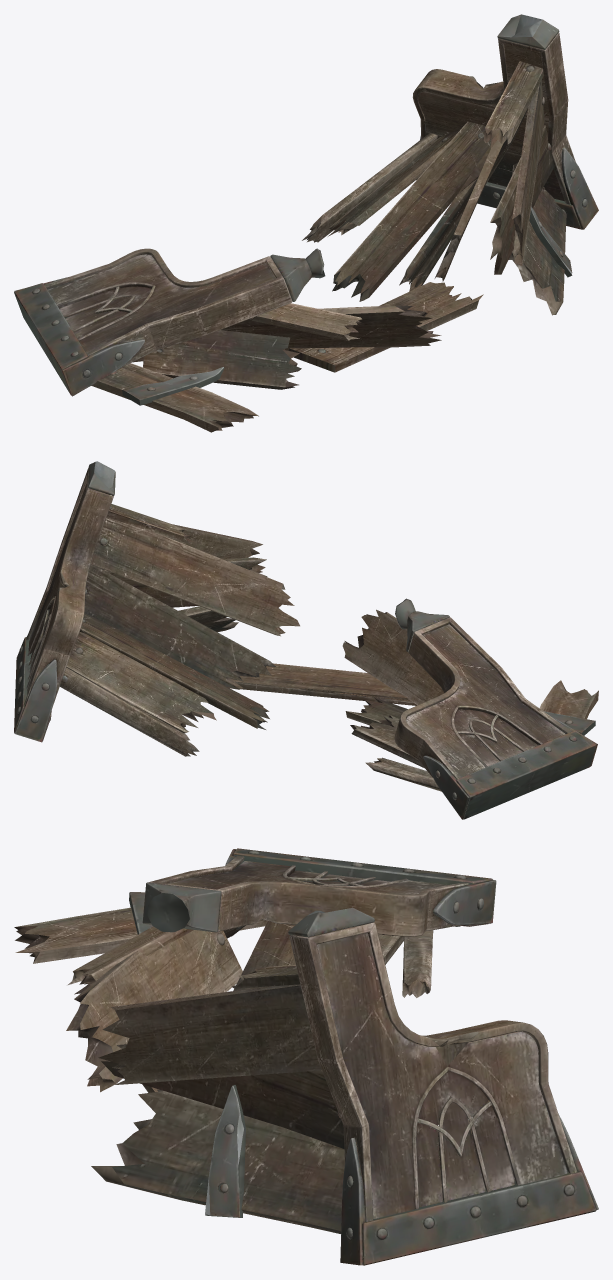
The picture shows the model from 3 angles, top to bottom: view 1: azimuth 30°, elevation 25°; view 2: azimuth 150°, elevation 25°; view 3: azimuth 270°, elevation 25°; orthographic projection. The views are drawn at different scales.
Visible parts, largest first — view 1: SM_Temple_Pew_01v3_LOD0; view 2: SM_Temple_Pew_01v3_LOD0; view 3: SM_Temple_Pew_01v3_LOD0.
Boxes of the visible parts, x1,y1,x2,y2 form: SM_Temple_Pew_01v3_LOD0: (14,14,598,432); SM_Temple_Pew_01v3_LOD0: (14,461,598,819); SM_Temple_Pew_01v3_LOD0: (14,848,598,1265).
Size of the model in its own units: 3.74 by 1.45 by 2.34.
1 material, 1 textured.
